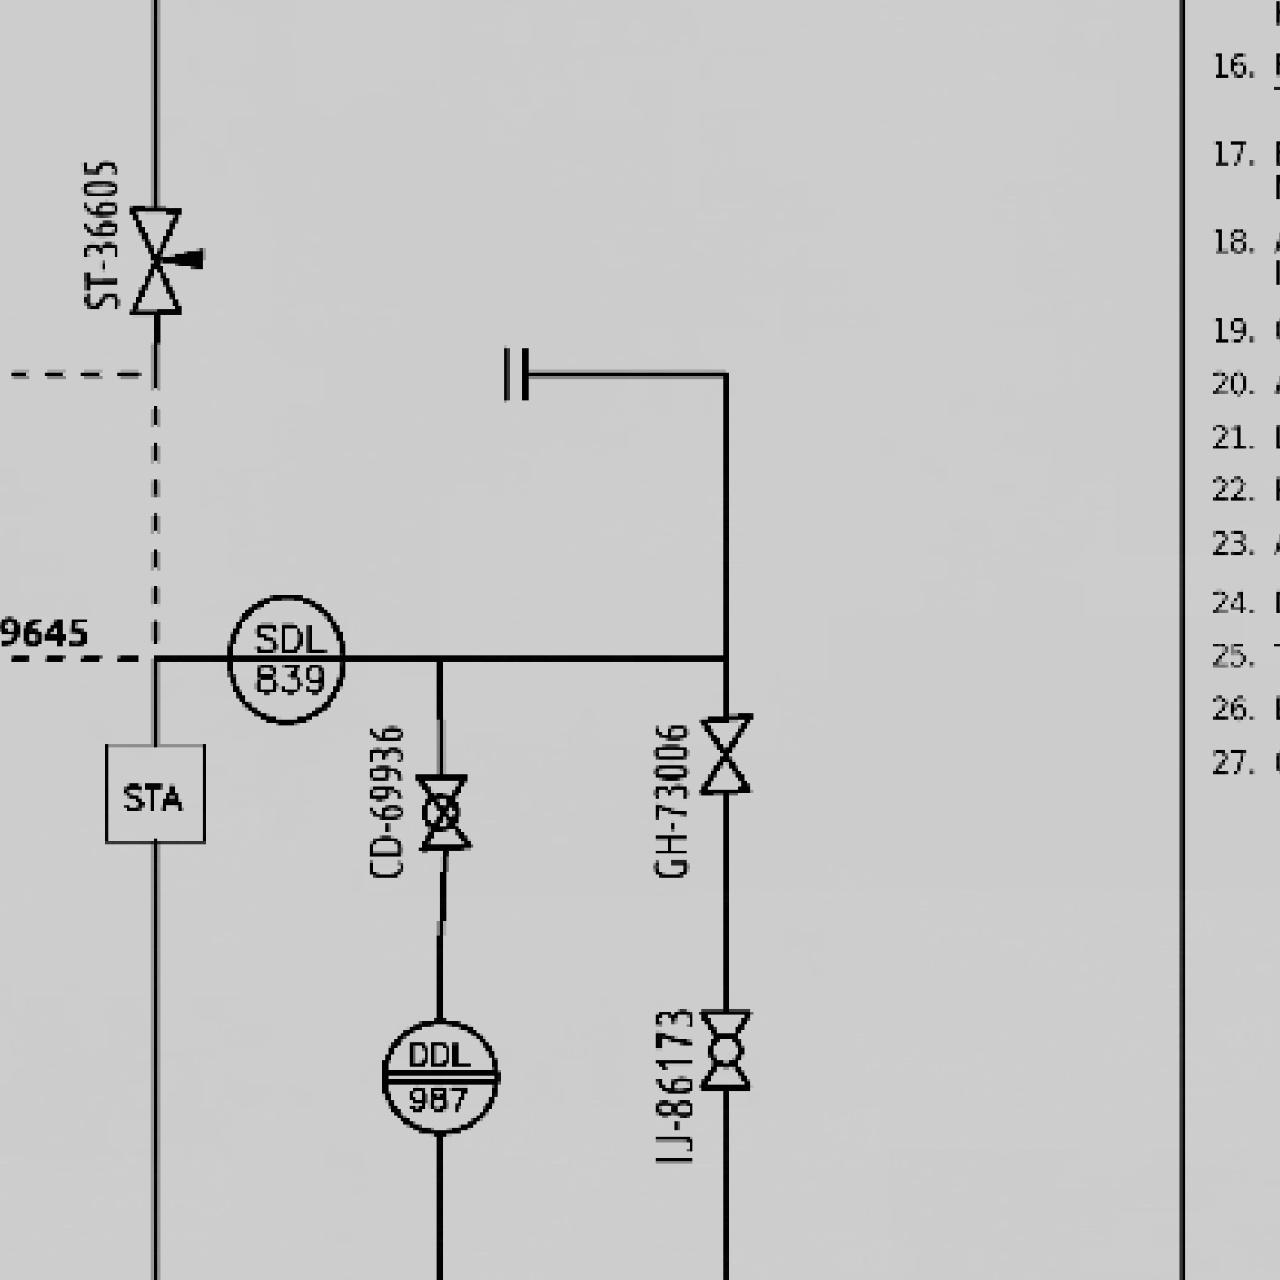Control-Panel: (377, 1012, 502, 1141)
